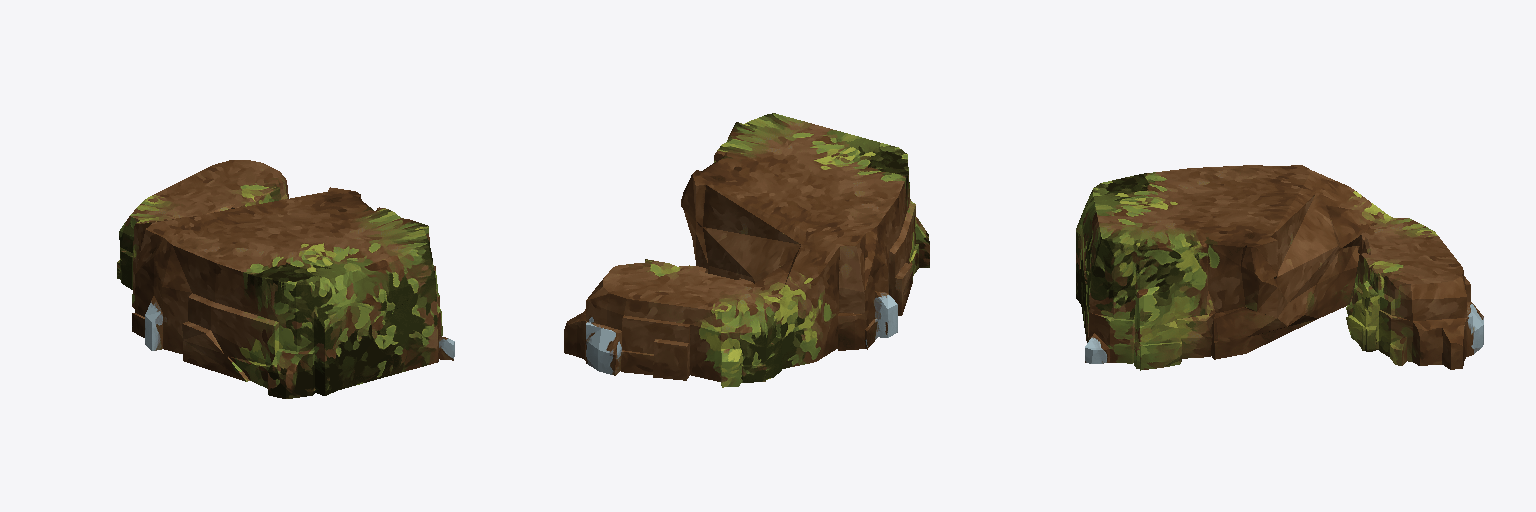
3 views of the same model, side by side, from view 1: azimuth 30°, elevation 25°; view 2: azimuth 150°, elevation 25°; view 3: azimuth 270°, elevation 25° (orthographic).
Parts seen in each view (by area): view 1: Cylinder.001; view 2: Cylinder.001; view 3: Cylinder.001.
Boxes of the visible parts, box(x1,y1,x2,y2) form: Cylinder.001: box(117, 160, 454, 398); Cylinder.001: box(564, 113, 929, 387); Cylinder.001: box(1076, 165, 1483, 370).
Bounding box in the file's own units: 46.83 × 22.02 × 70.94.
Materials: 1 (1 with a texture image).